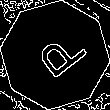P_SW: (24, 25, 86, 85)
